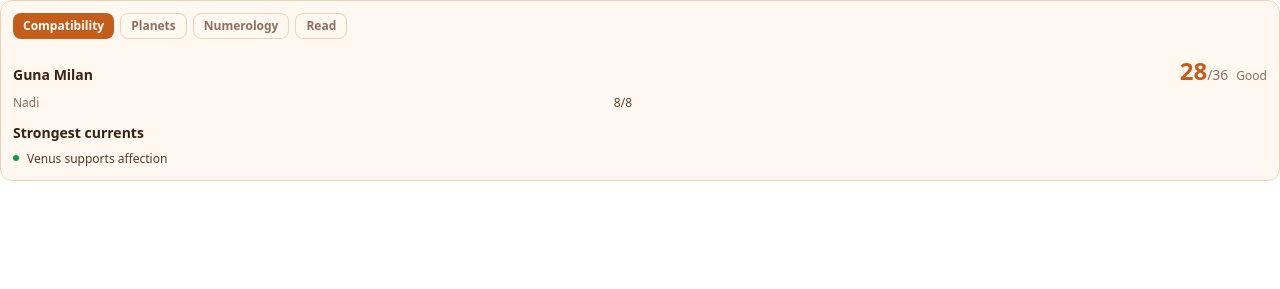
it: MatchResultCard › clicking Planets reveals planetary content and hides Guna
Click the button "Planets" at (154, 26), box [120,13,187,39]
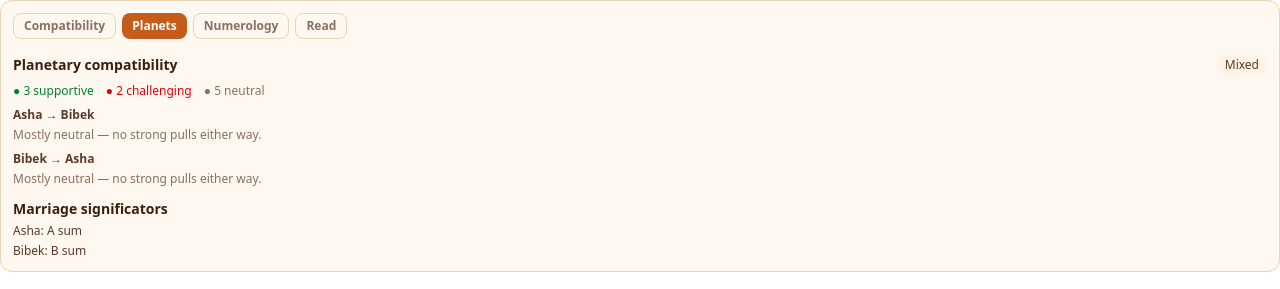
Expected: the text "Planetary compatibility" is shown, [13,55,178,75]
Expected: the text "Guna Milan" is gone
